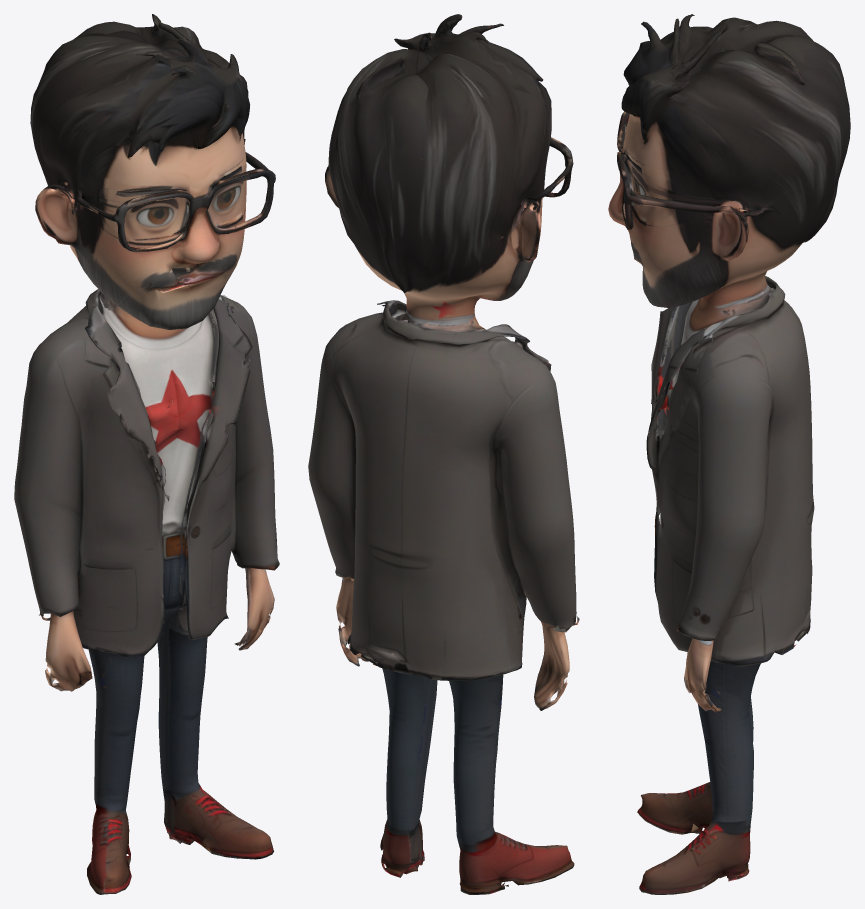
File: harsha.glb
The picture shows the model from 3 angles, left to right: view 1: azimuth 30°, elevation 25°; view 2: azimuth 150°, elevation 25°; view 3: azimuth 270°, elevation 25°; orthographic projection. The views are drawn at different scales.
Bounding box in the file's own units: 0.6322 × 1.99 × 0.5205.
Materials: 1 (1 with a texture image).
